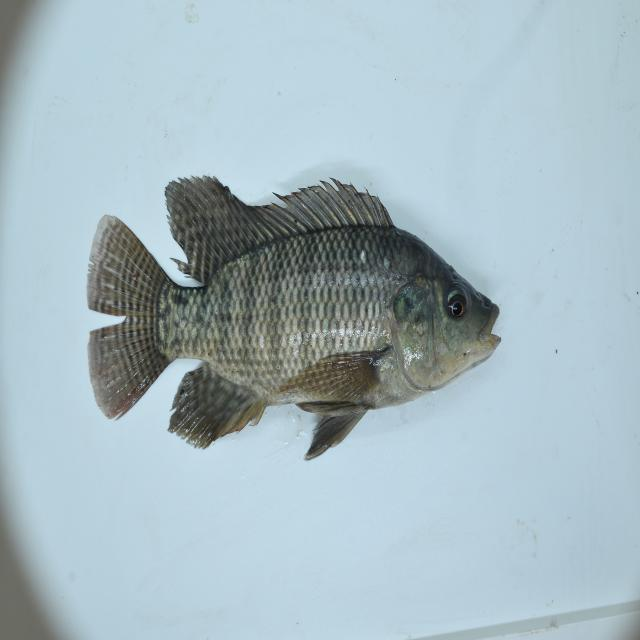Healthy Fish: (80, 172, 506, 463)
